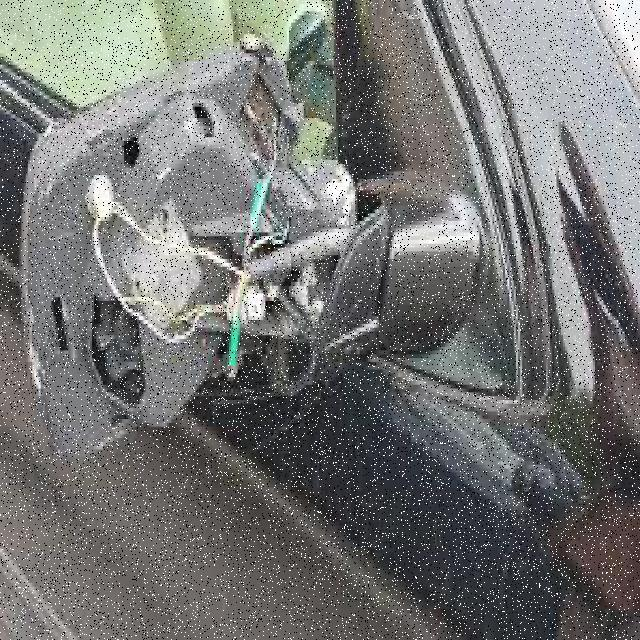Sidemirror-Damage: (25, 30, 392, 465)
